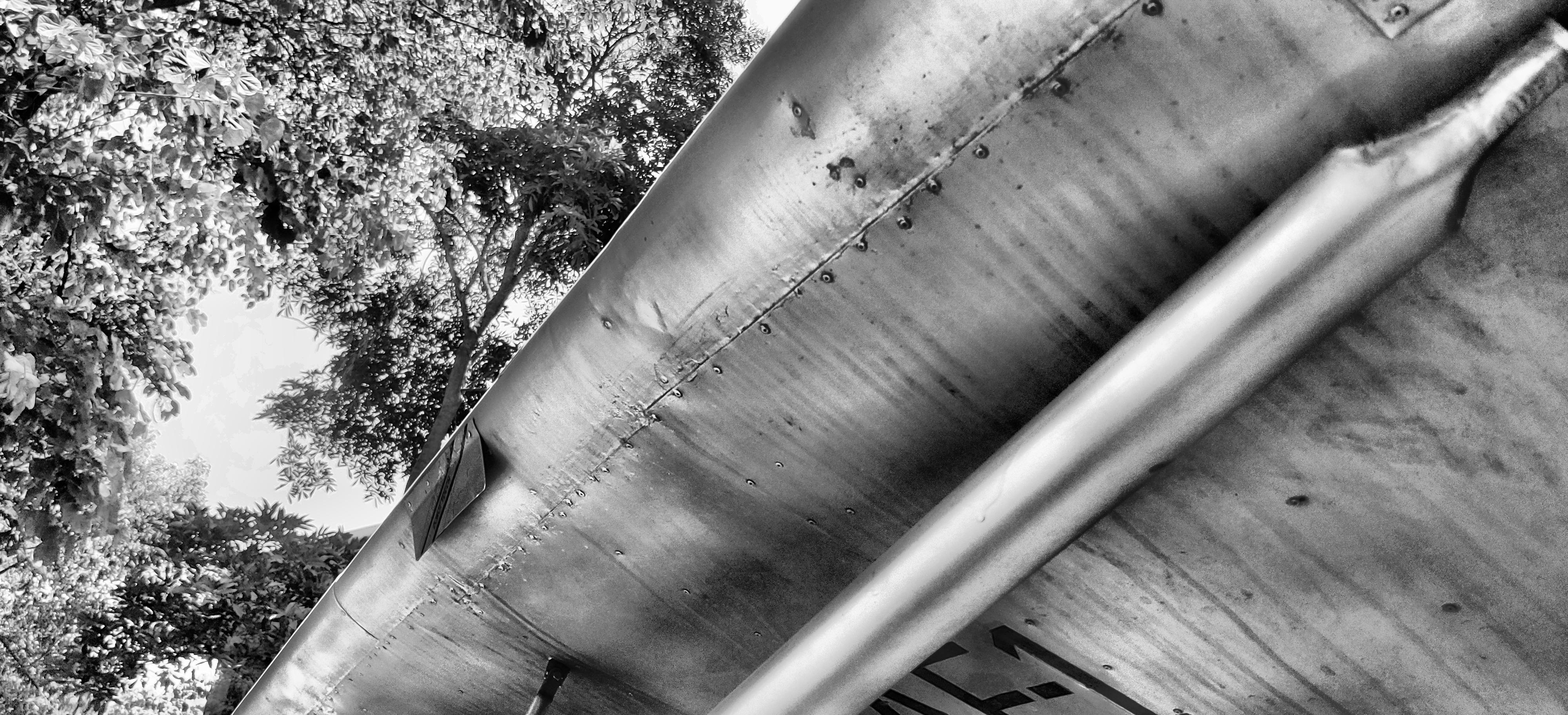dent: (634, 297, 672, 337)
paint-peel-off: (826, 158, 853, 181), (802, 118, 816, 140)
scratch: (984, 446, 1020, 515)
